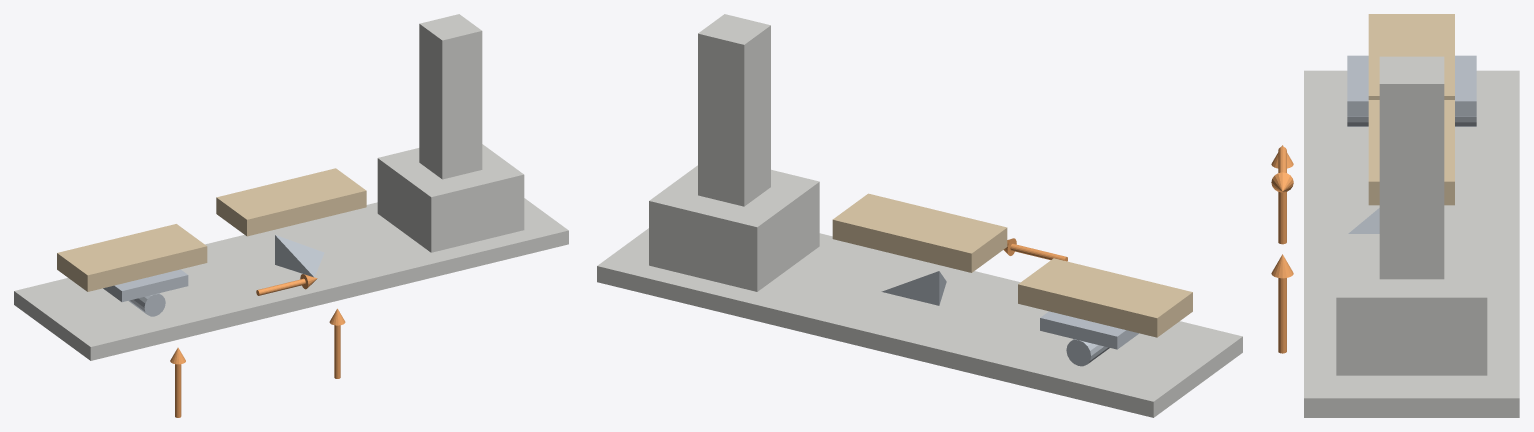
File: ar-bab03-tumpuan.glb
3 views of the same model, side by side, from view 1: azimuth 30°, elevation 25°; view 2: azimuth 150°, elevation 25°; view 3: azimuth 270°, elevation 25° (orthographic). The views are drawn at different scales.
Parts seen in each view (by area): view 1: geometry_0, geometry_7, geometry_8, geometry_6, geometry_3, geometry_2, geometry_4, geometry_1; view 2: geometry_0, geometry_7, geometry_8, geometry_6, geometry_3, geometry_2, geometry_4, geometry_1; view 3: geometry_0, geometry_7, geometry_8, geometry_3, geometry_2, geometry_6, geometry_11, geometry_1, geometry_9, geometry_4, geometry_14, geometry_12.
Part boxes in pixels (x1,y1,x2,y2): geometry_0: [14, 198, 568, 360]; geometry_7: [377, 144, 524, 252]; geometry_8: [419, 14, 482, 179]; geometry_6: [216, 168, 366, 236]; geometry_3: [57, 224, 207, 291]; geometry_2: [103, 269, 188, 302]; geometry_4: [275, 235, 324, 277]; geometry_1: [128, 293, 165, 316]; geometry_0: [597, 228, 1242, 417]; geometry_7: [649, 165, 819, 291]; geometry_8: [698, 14, 770, 206]; geometry_6: [832, 193, 1007, 272]; geometry_3: [1018, 258, 1192, 337]; geometry_2: [1040, 311, 1138, 349]; geometry_4: [881, 271, 946, 305]; geometry_1: [1066, 339, 1109, 366]; geometry_0: [1304, 70, 1519, 417]; geometry_7: [1336, 234, 1487, 375]; geometry_8: [1379, 56, 1444, 279]; geometry_3: [1368, 14, 1454, 99]; geometry_2: [1347, 55, 1476, 116]; geometry_6: [1368, 100, 1454, 205]; geometry_11: [1278, 278, 1286, 353]; geometry_1: [1347, 116, 1476, 126]; geometry_9: [1278, 192, 1286, 244]; geometry_4: [1348, 208, 1379, 233]; geometry_14: [1271, 172, 1293, 192]; geometry_12: [1271, 254, 1293, 278].
Bounding box in the file's own units: 3.6 × 2 × 1.15.
